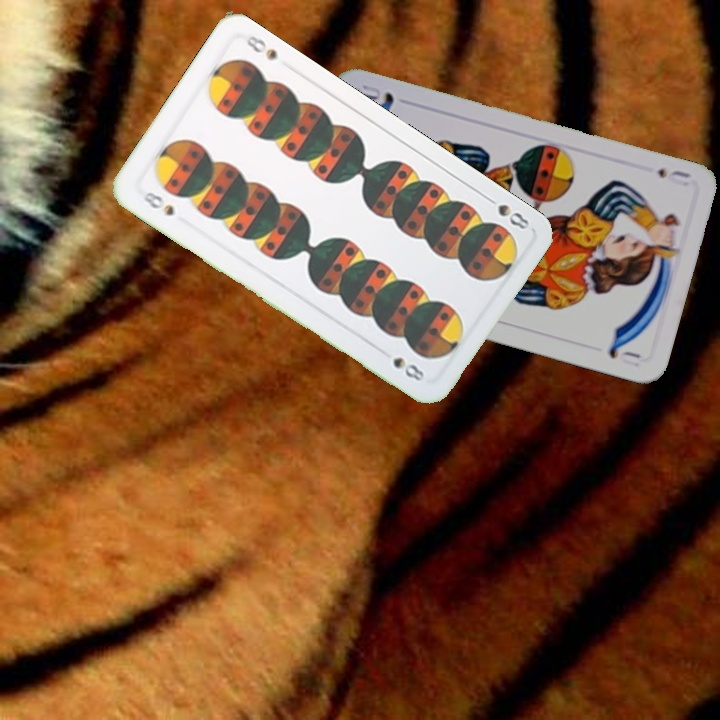S8: (480, 191, 532, 233), (138, 187, 177, 219)
SU: (653, 164, 693, 189)
